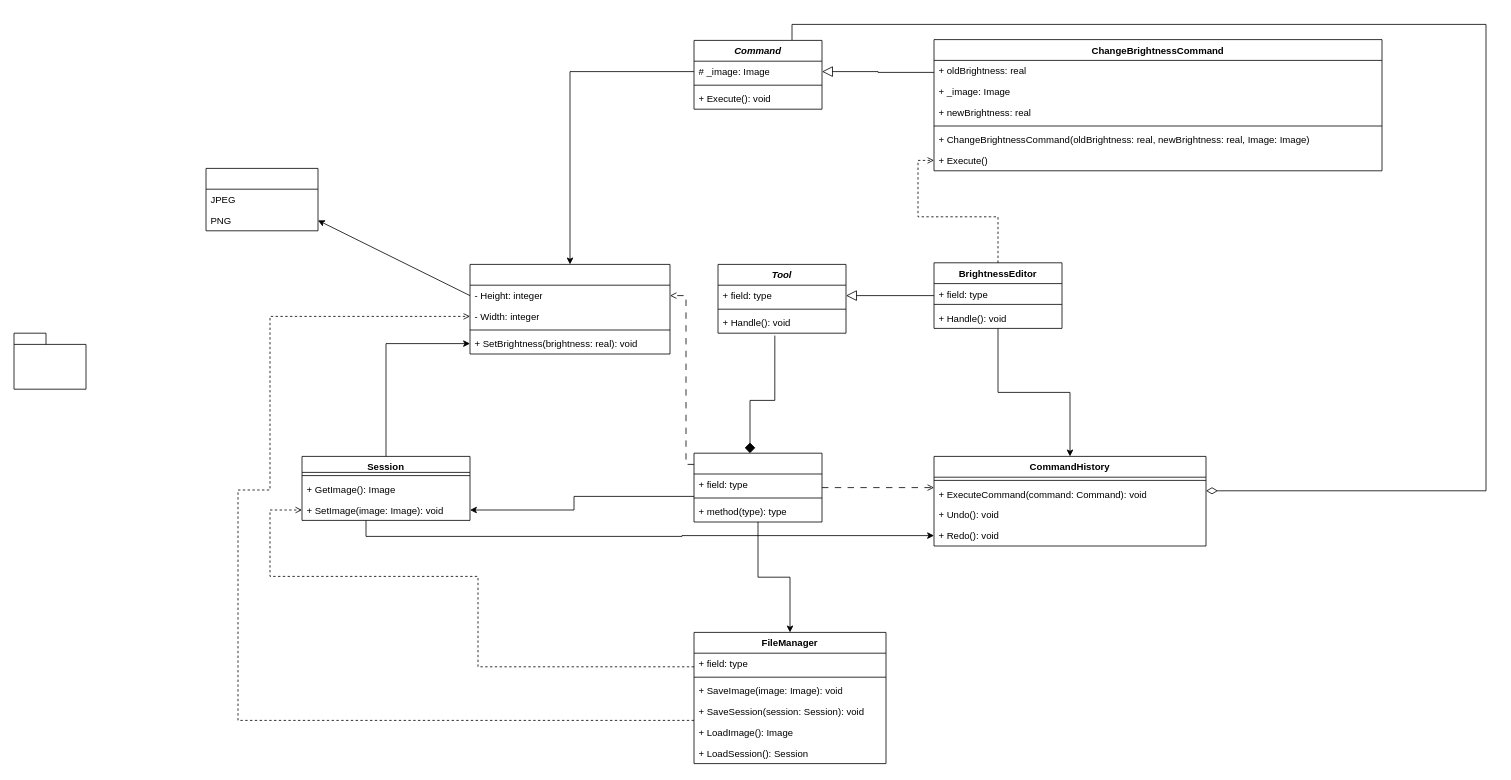
The diagram is 1511 pixels wide and 780 high, and some of its shapes have lost their labels. Here are the shapes that lost their labels. From the top down, the box of each, then its label:
(205, 168, 318, 231): <<Enumeration>> ImageFormat
(469, 264, 670, 354): Image
(13, 332, 86, 389): ImageSharp
(693, 452, 822, 522): Editor
